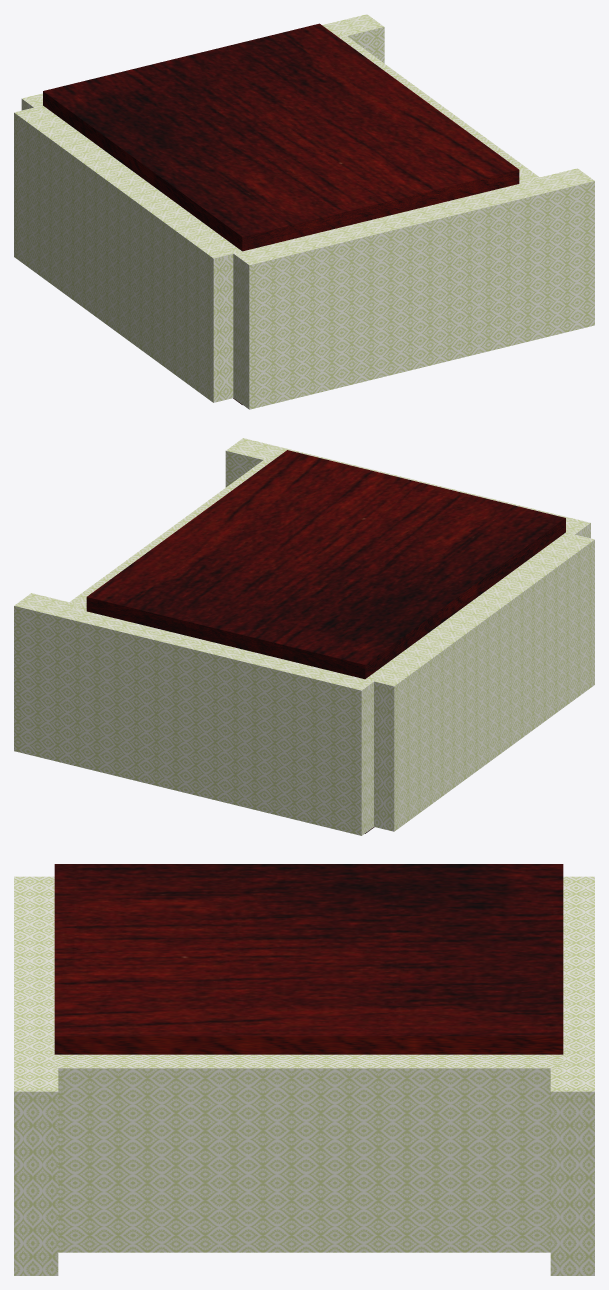
The model's file is room.obj.
The picture shows the model from 3 angles, top to bottom: view 1: azimuth 30°, elevation 25°; view 2: azimuth 150°, elevation 25°; view 3: azimuth 270°, elevation 25°; orthographic projection. The views are drawn at different scales.
Visible parts, largest first — view 1: pCube6, pCube8, pCube4, pCube9, pCube7; view 2: pCube6, pCube9, pCube4, pCube8, pCube7; view 3: pCube7, pCube6, pCube8, pCube9.
Part boxes in pixels (x1,y1,x2,y2): pCube6: (43, 23, 519, 251); pCube8: (233, 168, 594, 409); pCube4: (14, 105, 241, 402); pCube9: (21, 14, 384, 110); pCube7: (335, 33, 539, 183); pCube6: (86, 450, 565, 679); pCube9: (14, 593, 376, 835); pCube4: (365, 533, 594, 831); pCube8: (225, 438, 590, 538); pCube7: (65, 459, 271, 611); pCube7: (54, 1054, 563, 1252); pCube6: (54, 864, 563, 1054); pCube8: (14, 876, 58, 1275); pCube9: (550, 876, 594, 1275).
Size of the model in its own units: 143 by 62.96 by 155.
Materials: 2 (2 with a texture image).
